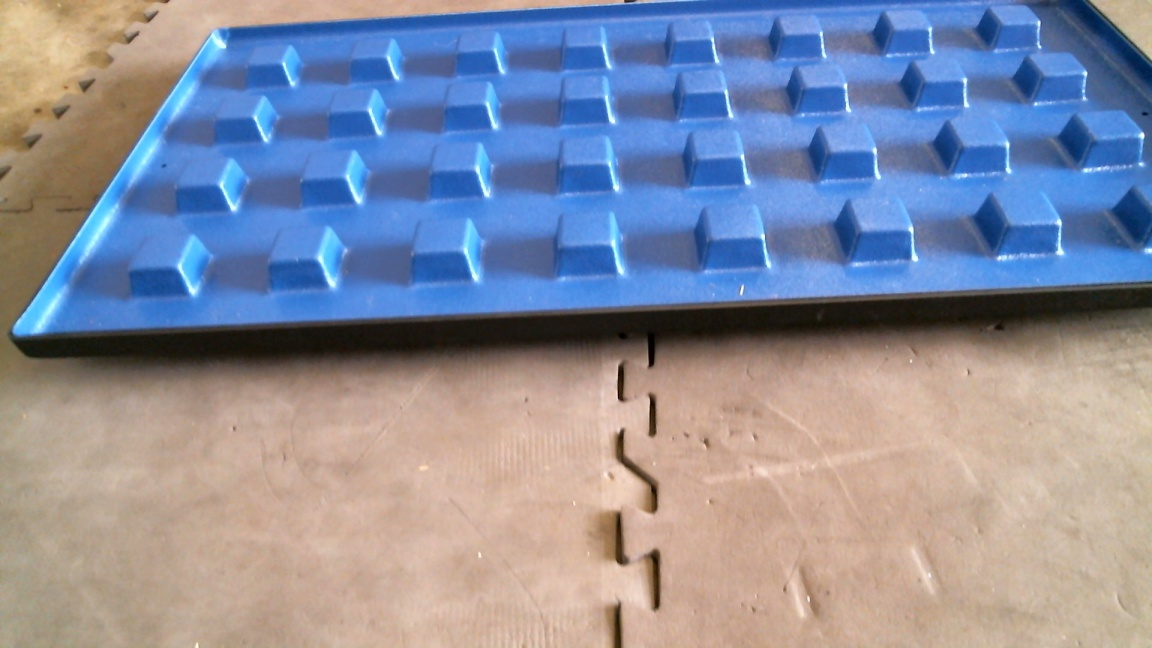blue_foundation: (8, 1, 1152, 347)
